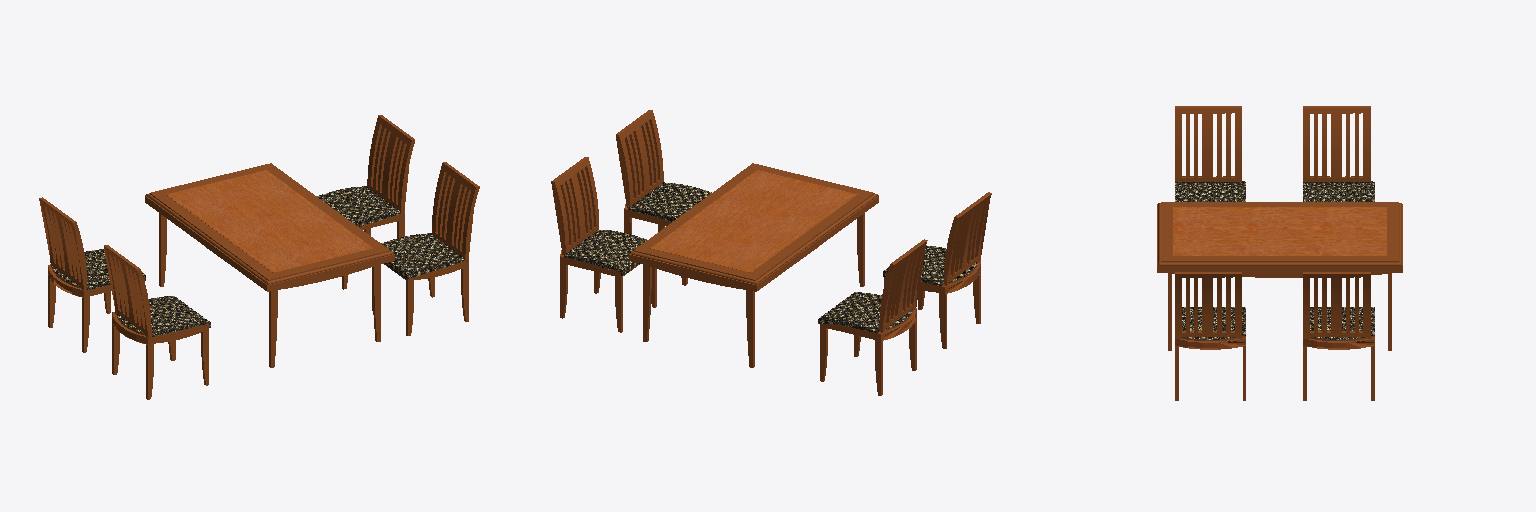
3 renders of one model, left to right at view 1: azimuth 30°, elevation 25°; view 2: azimuth 150°, elevation 25°; view 3: azimuth 270°, elevation 25°, orthographic.
Parts seen in each view (by area): view 1: Mesh57 dinningTable1 Model, Mesh54 Component_1_2 dinningTable1 Model, Mesh53 Component_1_1 dinningTable1 Model, Mesh10 Group_5 dinningTable1 Model, Mesh55 Component_1_3 dinningTable1 Model, Mesh56 Component_1_4 dinningTable1 Model, Mesh51 Group_5_3 dinningTable1 Model, Mesh22 Group_5_1 dinningTable1 Model, Mesh47 Group_5_2 dinningTable1 Model, Mesh25 Group_3_6 dinningTable1 Model, Mesh27 Group_3_8 dinningTable1 Model; view 2: Mesh57 dinningTable1 Model, Mesh53 Component_1_1 dinningTable1 Model, Mesh54 Component_1_2 dinningTable1 Model, Mesh22 Group_5_1 dinningTable1 Model, Mesh56 Component_1_4 dinningTable1 Model, Mesh55 Component_1_3 dinningTable1 Model, Mesh47 Group_5_2 dinningTable1 Model, Mesh10 Group_5 dinningTable1 Model, Mesh51 Group_5_3 dinningTable1 Model, Mesh26 Group_3_7 dinningTable1 Model, Mesh28 Group_3_9 dinningTable1 Model; view 3: Mesh57 dinningTable1 Model, Mesh56 Component_1_4 dinningTable1 Model, Mesh55 Component_1_3 dinningTable1 Model, Mesh54 Component_1_2 dinningTable1 Model, Mesh53 Component_1_1 dinningTable1 Model, Mesh47 Group_5_2 dinningTable1 Model, Mesh51 Group_5_3 dinningTable1 Model, Mesh22 Group_5_1 dinningTable1 Model, Mesh10 Group_5 dinningTable1 Model.
Boxes of the visible parts, <box> form: Mesh57 dinningTable1 Model: <box>145,163,394,291</box>; Mesh54 Component_1_2 dinningTable1 Model: <box>367,115,414,213</box>; Mesh53 Component_1_1 dinningTable1 Model: <box>432,162,479,260</box>; Mesh10 Group_5 dinningTable1 Model: <box>381,233,465,281</box>; Mesh55 Component_1_3 dinningTable1 Model: <box>104,245,151,337</box>; Mesh56 Component_1_4 dinningTable1 Model: <box>39,197,86,290</box>; Mesh51 Group_5_3 dinningTable1 Model: <box>116,296,210,343</box>; Mesh22 Group_5_1 dinningTable1 Model: <box>317,186,400,229</box>; Mesh47 Group_5_2 dinningTable1 Model: <box>52,249,145,296</box>; Mesh25 Group_3_6 dinningTable1 Model: <box>269,290,277,367</box>; Mesh27 Group_3_8 dinningTable1 Model: <box>372,264,380,341</box>; Mesh57 dinningTable1 Model: <box>629,163,878,291</box>; Mesh53 Component_1_1 dinningTable1 Model: <box>616,110,663,207</box>; Mesh54 Component_1_2 dinningTable1 Model: <box>551,157,598,254</box>; Mesh22 Group_5_1 dinningTable1 Model: <box>564,230,646,277</box>; Mesh56 Component_1_4 dinningTable1 Model: <box>879,239,927,332</box>; Mesh55 Component_1_3 dinningTable1 Model: <box>944,192,991,285</box>; Mesh47 Group_5_2 dinningTable1 Model: <box>818,292,912,340</box>; Mesh10 Group_5 dinningTable1 Model: <box>628,182,711,225</box>; Mesh51 Group_5_3 dinningTable1 Model: <box>883,245,976,292</box>; Mesh26 Group_3_7 dinningTable1 Model: <box>746,290,754,367</box>; Mesh28 Group_3_9 dinningTable1 Model: <box>643,265,651,341</box>; Mesh57 dinningTable1 Model: <box>1157,202,1402,277</box>; Mesh56 Component_1_4 dinningTable1 Model: <box>1303,106,1370,181</box>; Mesh55 Component_1_3 dinningTable1 Model: <box>1175,106,1241,181</box>; Mesh54 Component_1_2 dinningTable1 Model: <box>1303,272,1370,338</box>; Mesh53 Component_1_1 dinningTable1 Model: <box>1175,272,1241,338</box>; Mesh47 Group_5_2 dinningTable1 Model: <box>1303,182,1374,201</box>; Mesh51 Group_5_3 dinningTable1 Model: <box>1175,181,1245,201</box>; Mesh22 Group_5_1 dinningTable1 Model: <box>1310,307,1374,347</box>; Mesh10 Group_5 dinningTable1 Model: <box>1182,307,1245,347</box>.
Size of the model in its own units: 4.17 by 1.54 by 2.59.
5 materials, 2 textured.